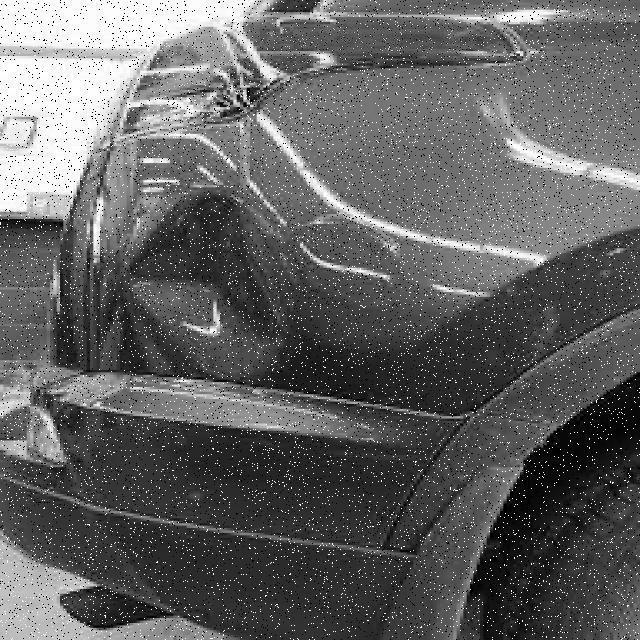quaterpanel-dent: (0, 65, 636, 464)
